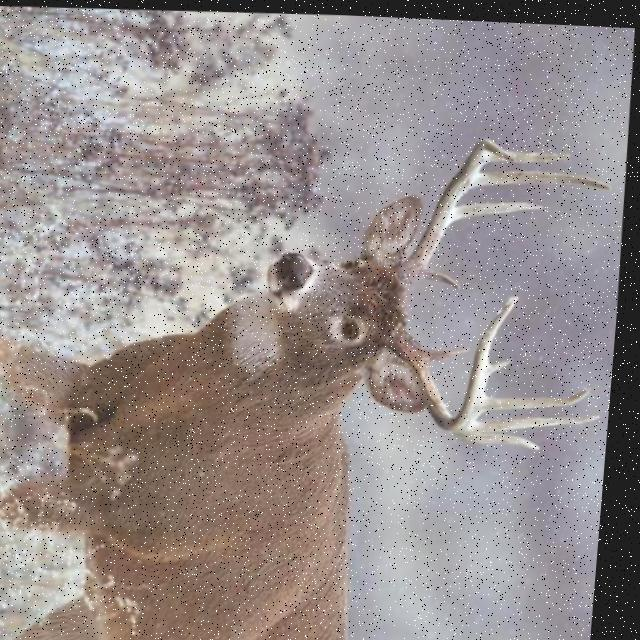L-F: (392, 133, 516, 283)
L-G1: (422, 263, 464, 286)
L-G2: (452, 196, 546, 218)
L-G3: (471, 165, 614, 184)
R-F: (387, 290, 522, 429)
R-G1: (428, 340, 474, 359)
R-G3: (473, 408, 606, 427)
R-G4: (488, 378, 596, 407)
R-G5: (493, 353, 517, 371)
